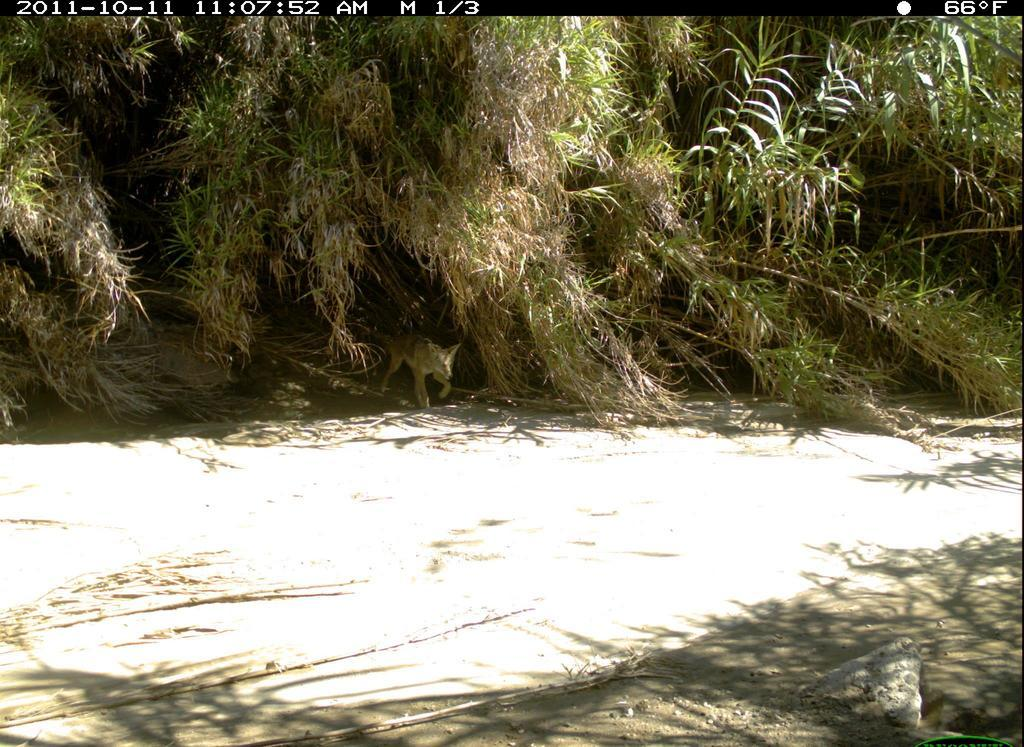coyote: (368, 323, 468, 432)
